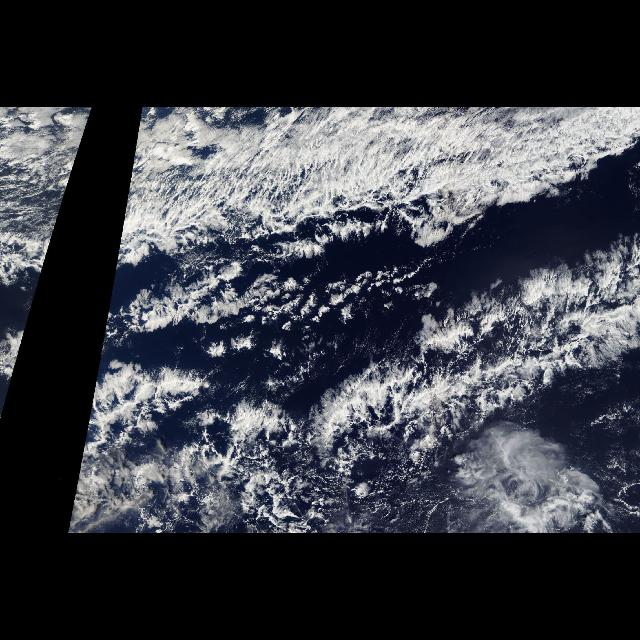Fish: (116, 150, 640, 460)
